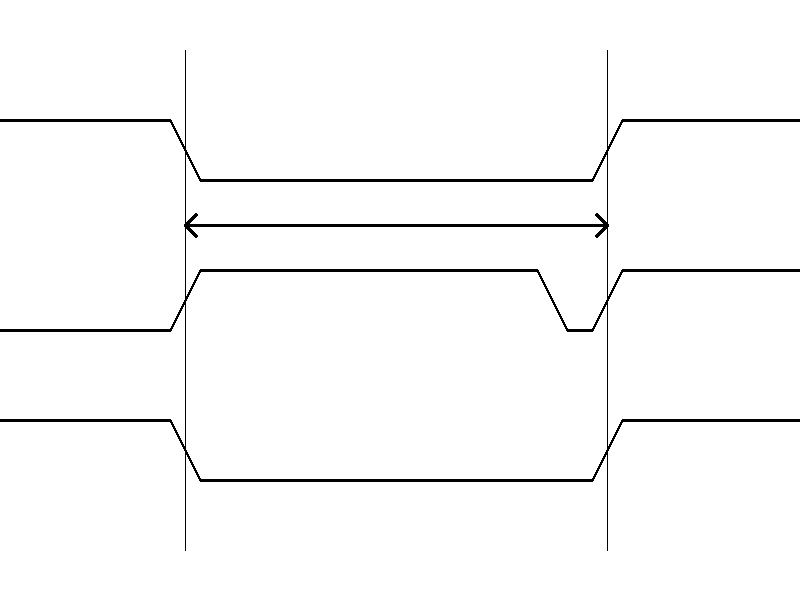double_arrow: (185, 210, 607, 240)
